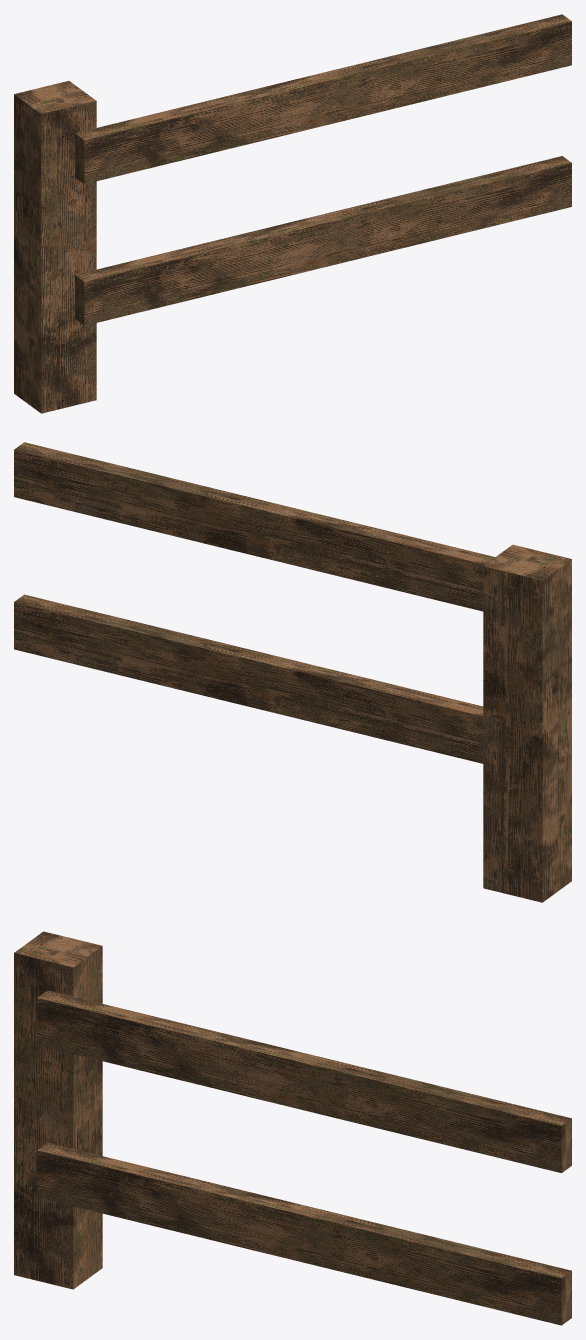
Rendered from fence.fbx.
3 views of the same model, one above another, from view 1: azimuth 30°, elevation 25°; view 2: azimuth 150°, elevation 25°; view 3: azimuth 330°, elevation 25° (orthographic). The views are drawn at different scales.
Visible parts, largest first — view 1: pCube52; view 2: pCube52; view 3: pCube52.
Boxes of the visible parts, box(x1,y1,x2,y2) form: pCube52: box(14, 14, 571, 413); pCube52: box(14, 442, 571, 902); pCube52: box(14, 931, 571, 1325).
Bounding box in the file's own units: 206 × 113 × 26.2.
Materials: 1 (1 with a texture image).
